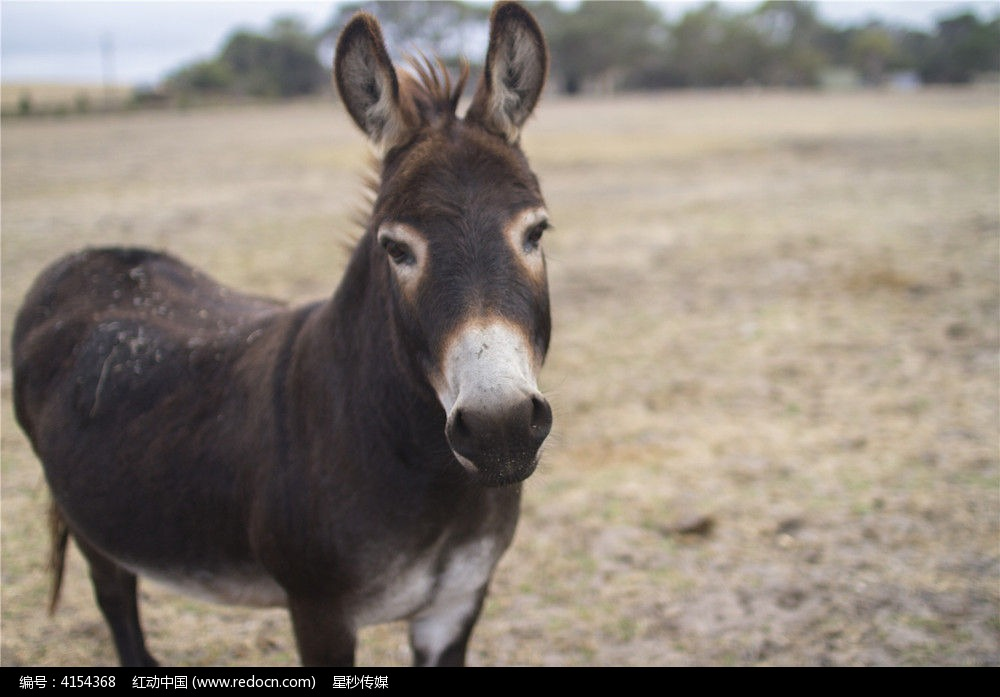background: (9, 4, 560, 664)
